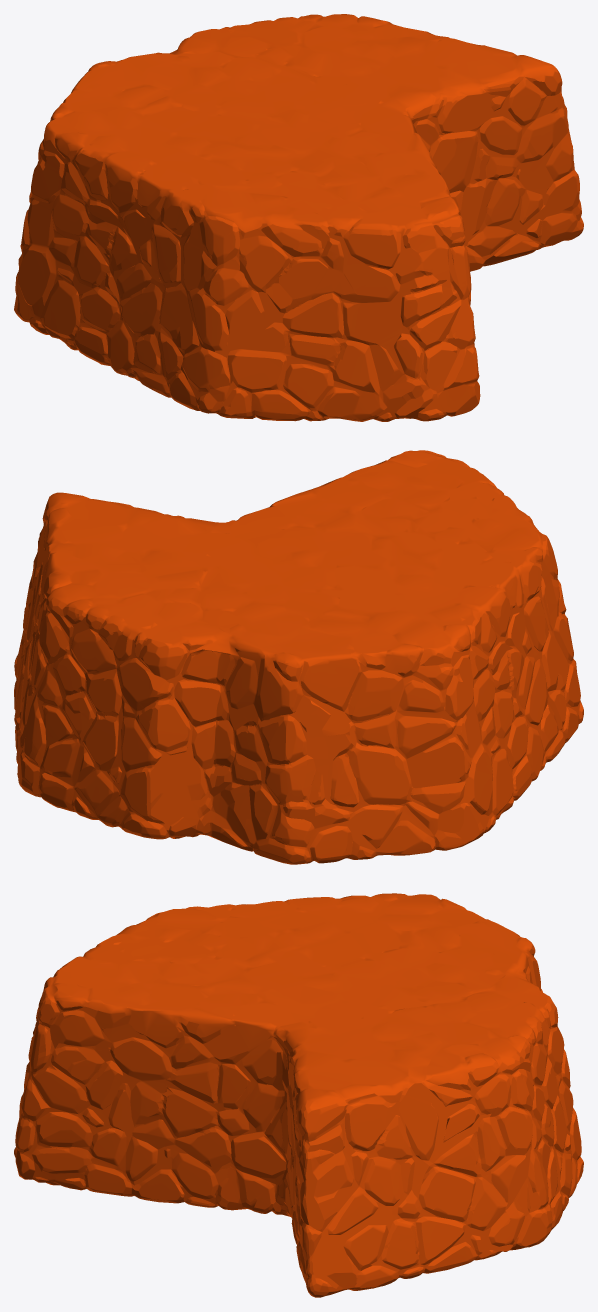
3 renders of one model, top to bottom at view 1: azimuth 30°, elevation 25°; view 2: azimuth 150°, elevation 25°; view 3: azimuth 270°, elevation 25°, orthographic. The views are drawn at different scales.
Visible parts, largest first — view 1: Mesh_58_LOD0; view 2: Mesh_58_LOD0; view 3: Mesh_58_LOD0.
Boxes of the visible parts, x1=… form: Mesh_58_LOD0: x1=14, y1=14, x2=583, y2=421; Mesh_58_LOD0: x1=14, y1=450, x2=583, y2=864; Mesh_58_LOD0: x1=14, y1=893, x2=583, y2=1297.
Size of what is drawn, in the model's own units: 12114 by 4379 by 11969.
